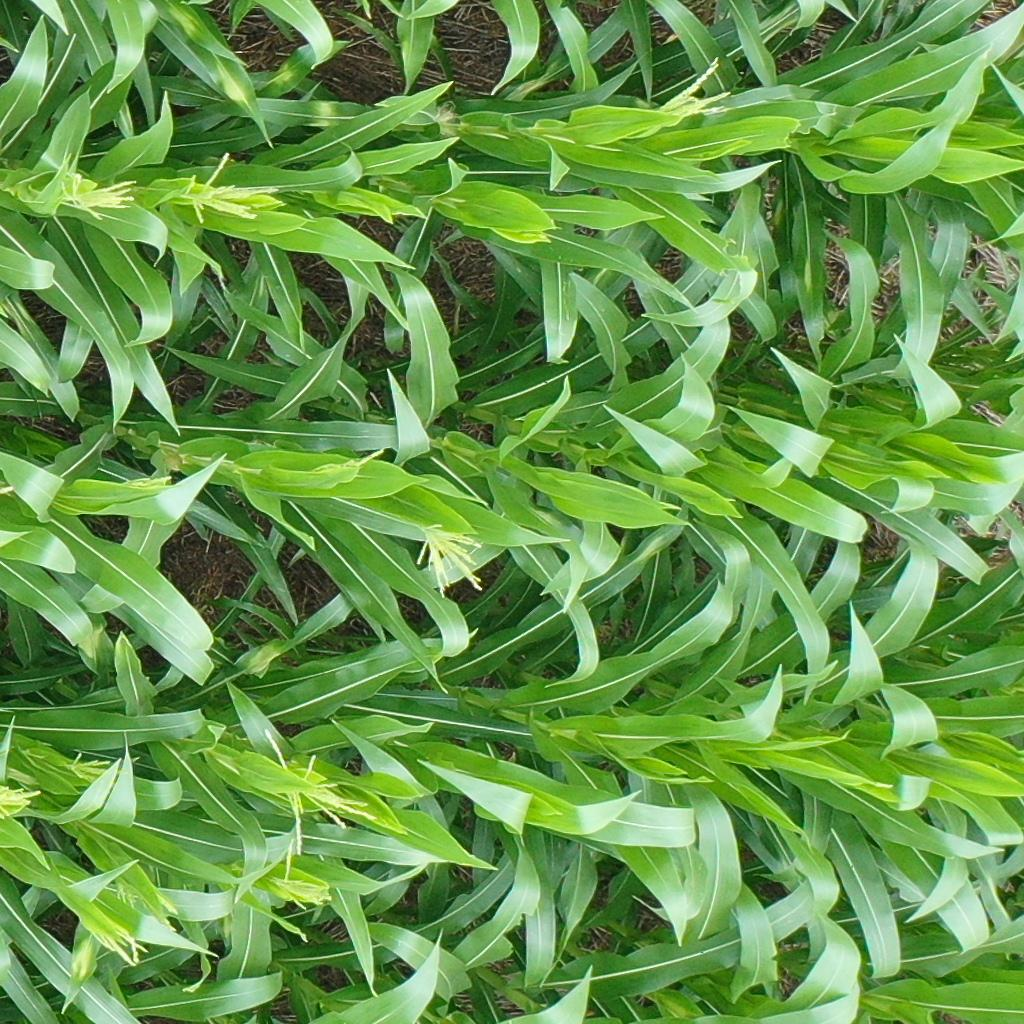Tassel: (256, 729, 373, 835), (26, 151, 140, 224), (178, 151, 281, 225), (646, 52, 731, 124), (412, 521, 487, 600), (261, 838, 335, 918), (66, 919, 149, 986), (105, 867, 186, 916), (63, 748, 130, 792), (1, 782, 43, 824), (338, 445, 388, 471), (124, 472, 178, 492)
